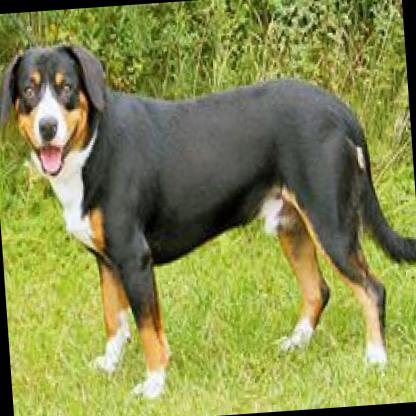EntleBucher: (0, 10, 416, 404)
